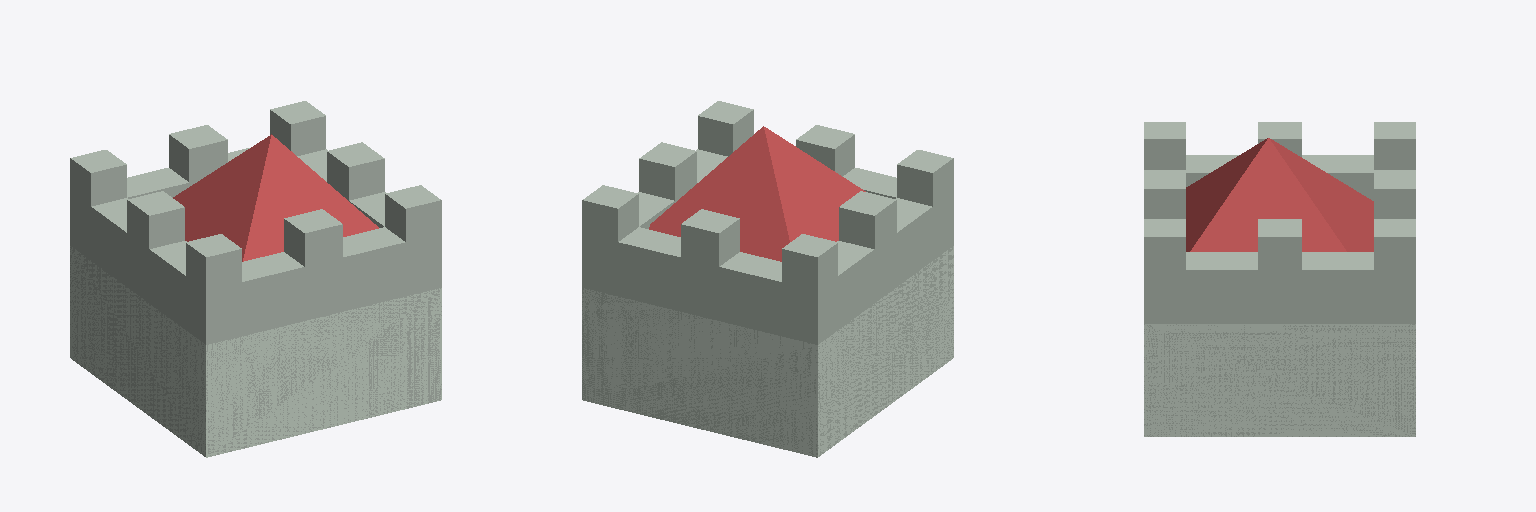
File: tile_051.obj
3 renders of one model, left to right at view 1: azimuth 30°, elevation 25°; view 2: azimuth 150°, elevation 25°; view 3: azimuth 270°, elevation 25°, orthographic.
Parts seen in each view (by area): view 1: tile_051, Group; view 2: tile_051, Group; view 3: tile_051, Group.
Part boxes in pixels (left/top/right/bottom): tile_051: left=70, top=101, right=441, bottom=457; Group: left=173, top=134, right=378, bottom=261; tile_051: left=582, top=101, right=953, bottom=457; Group: left=649, top=126, right=865, bottom=261; tile_051: left=1144, top=122, right=1415, bottom=436; Group: left=1186, top=138, right=1373, bottom=251.
Bounding box in the file's own units: 0.5901 × 0.5914 × 0.5901.